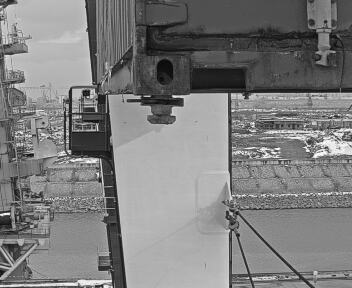twist_lock_1: (134, 87, 192, 134)
